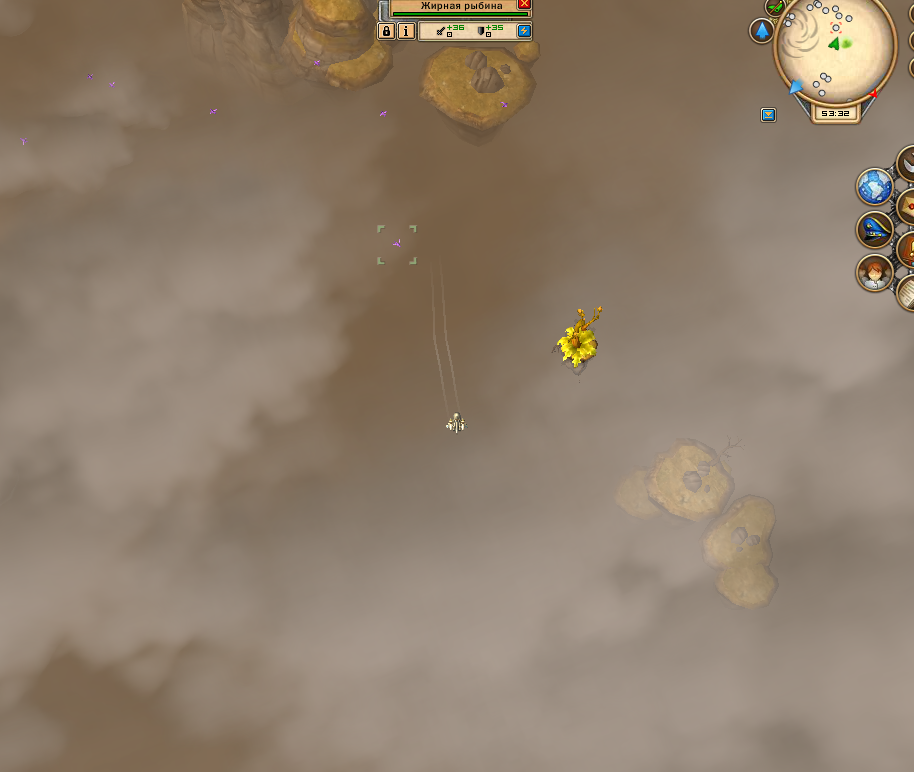dandelion-empty: (554, 303, 608, 372)
